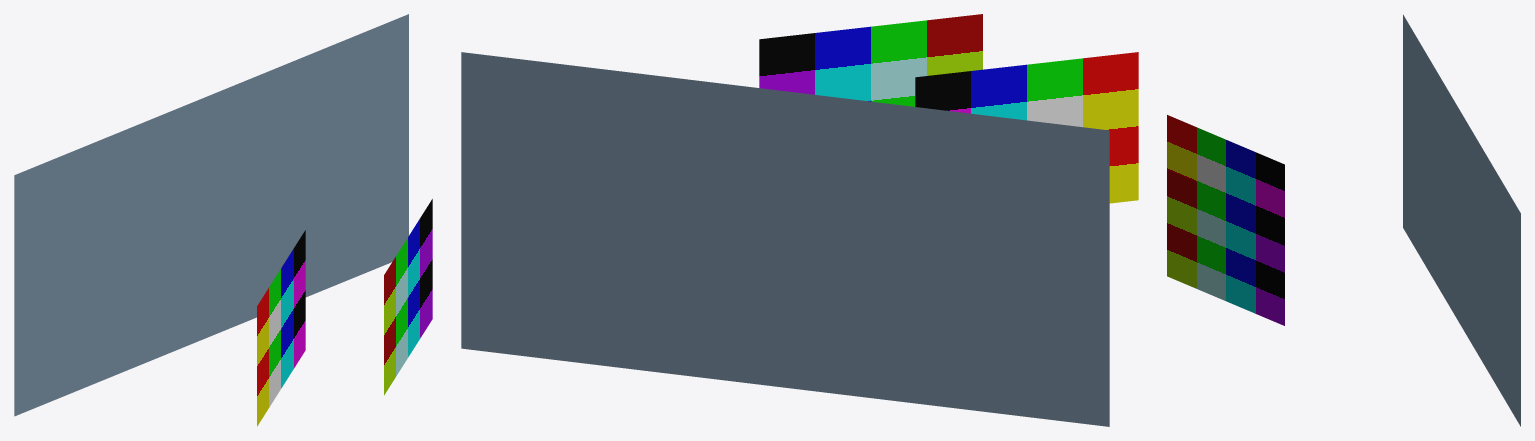
The model's file is studio_test_textured.gltf.
3 views of the same model, side by side, from view 1: azimuth 30°, elevation 25°; view 2: azimuth 150°, elevation 25°; view 3: azimuth 270°, elevation 25° (orthographic). The views are drawn at different scales.
Size of the model in its own units: 8 by 4 by 6.
Materials: 3 (2 with a texture image).
